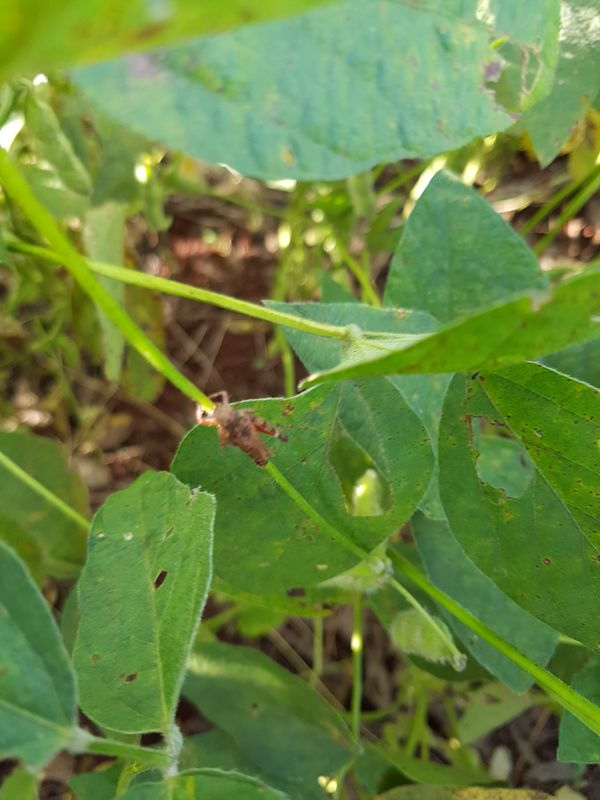Rhammatocerus_schistocercoides: (190, 383, 298, 484)
